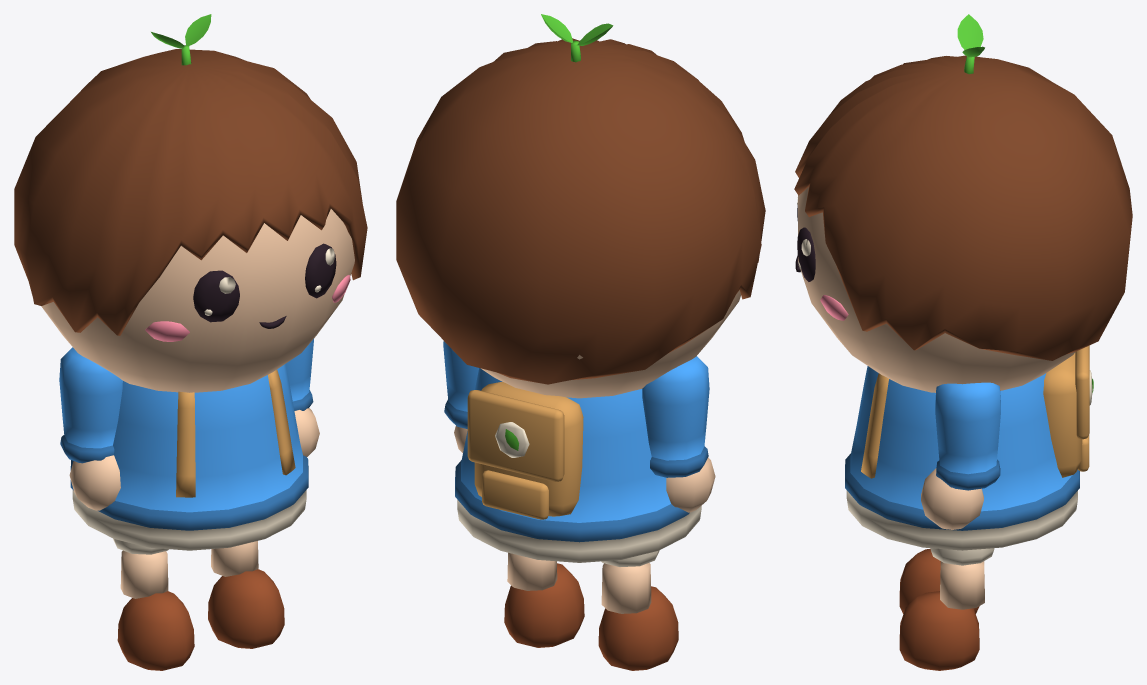
Rendered from hero.glb.
3 renders of one model, left to right at view 1: azimuth 30°, elevation 25°; view 2: azimuth 150°, elevation 25°; view 3: azimuth 270°, elevation 25°, orthographic. The views are drawn at different scales.
Visible parts, largest first — view 1: head, body, arm-left, leg-left, leg-right, arm-right, head-leaf; view 2: head, body, arm-left, leg-left, leg-right, arm-right, head-leaf; view 3: head, body, arm-right, leg-right, leg-left, head-leaf.
Boxes of the visible parts, x1,y1,x2,y2 form: head: (14,49,367,392); body: (70,364,308,550); arm-left: (59,347,122,510); leg-left: (113,538,194,670); leg-right: (208,541,284,648); arm-right: (285,339,319,456); head-leaf: (151,14,211,65); head: (396,38,765,398); body: (455,368,701,562); arm-left: (642,356,715,512); leg-left: (598,550,678,670); leg-right: (504,552,584,647); arm-right: (443,341,478,452); head-leaf: (541,14,613,62); head: (794,55,1132,392); body: (845,345,1093,550); arm-right: (921,382,1000,529); leg-right: (899,548,994,670); leg-left: (899,548,979,613); head-leaf: (957,14,984,74).
Bounding box in the file's own units: 1.23 × 2.35 × 1.18.
